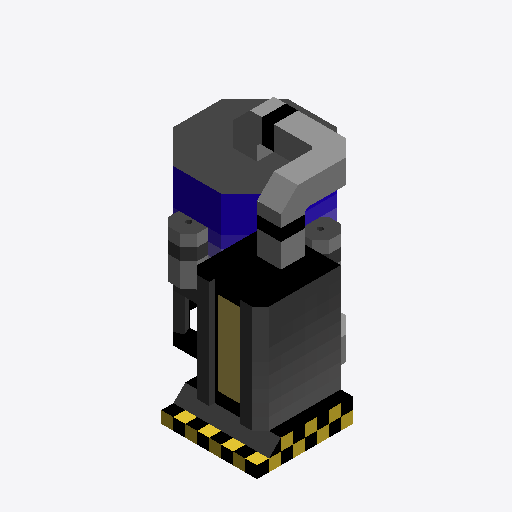
Isometric view (azimuth 45°, elevation 35.3°) of a Minecraft model made of 85 cuboids, textured from the same repository.
Parts seen in each view (by area): element 4, element 1, element 80, element 9, element 39, element 84, element 6, element 3, element 7, element 85, element 2, element 40 (+12 smaller).
Part boxes in pixels (bbox=[...]): element 4: bbox=[198, 231, 340, 430]; element 1: bbox=[161, 403, 352, 478]; element 80: bbox=[250, 97, 344, 160]; element 9: bbox=[209, 275, 255, 416]; element 39: bbox=[173, 159, 231, 258]; element 84: bbox=[257, 201, 304, 268]; element 6: bbox=[197, 271, 216, 405]; element 3: bbox=[174, 383, 280, 457]; element 7: bbox=[252, 298, 268, 430]; element 85: bbox=[274, 150, 345, 206]; element 2: bbox=[185, 376, 352, 450]; element 40: bbox=[221, 184, 265, 250].
Size of the model in its own units: 15.83 by 16.42 by 16.